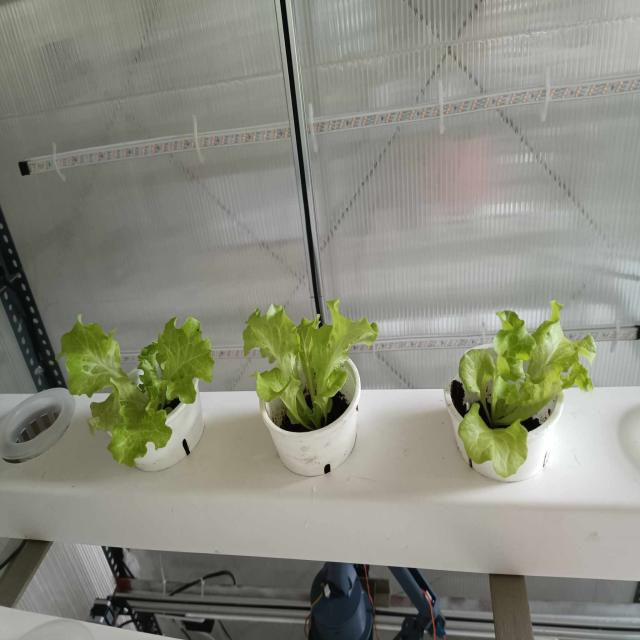Lettuce-Not-Ready-to-Harvest: (447, 306, 597, 489), (61, 312, 212, 475), (240, 294, 380, 452)
